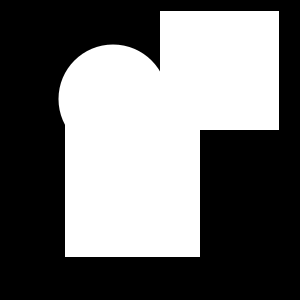circle: (65, 122, 200, 257), (160, 11, 279, 130)
rectangle: (58, 44, 168, 154)
